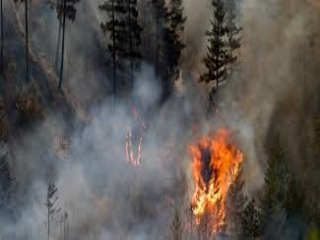fire: (185, 130, 246, 227)
smoke: (15, 115, 183, 234), (236, 13, 310, 136)
